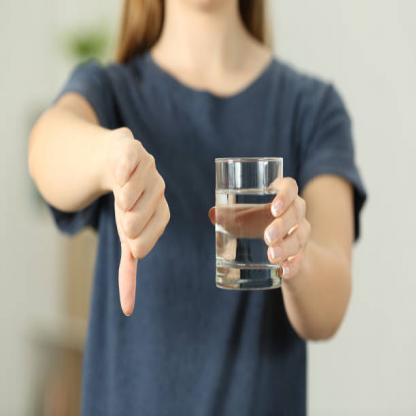thumb_down: (101, 129, 178, 321)
